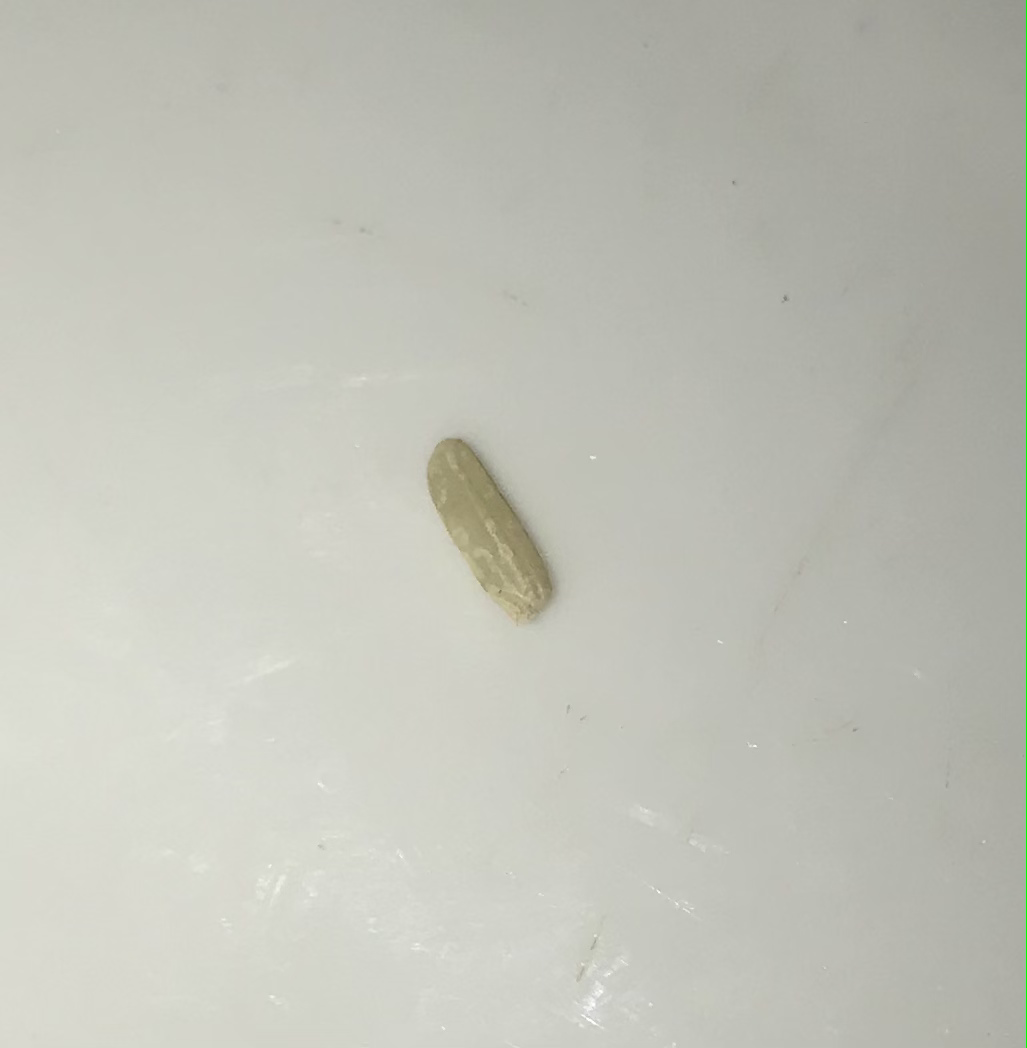Gao Lut Trang: (412, 422, 582, 628)
